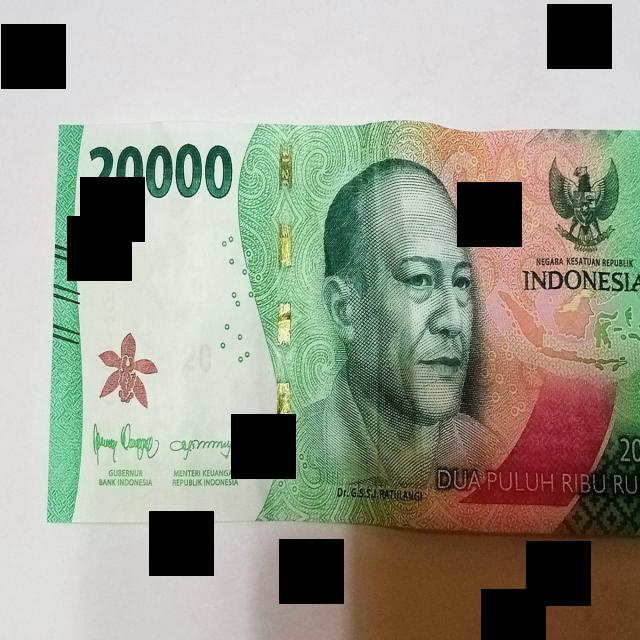dua puluh ribu rupiah: (48, 122, 640, 535)
